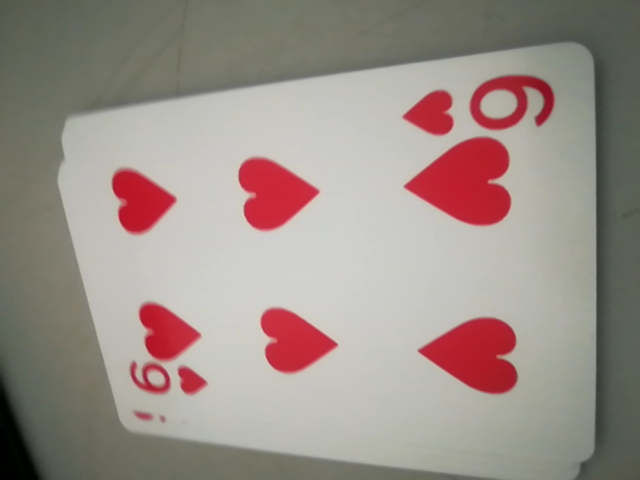hx 6: (403, 65, 557, 142), (122, 359, 205, 424)
